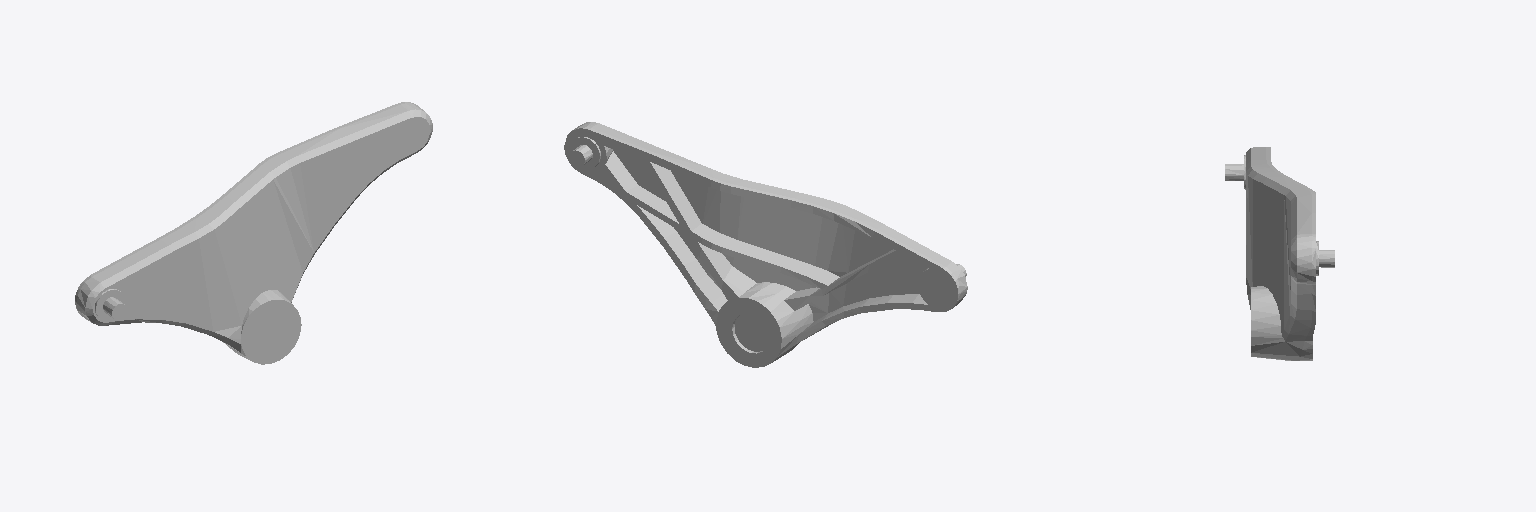
Rendered from irb760_450_318_link_cad_00_body1.obj.
The picture shows the model from 3 angles: view 1: azimuth 30°, elevation 25°; view 2: azimuth 150°, elevation 25°; view 3: azimuth 270°, elevation 25°; orthographic projection.
Parts seen in each view (by area): view 1: 0; view 2: 0; view 3: 0.
Part boxes in pixels (x1,y1,x2,y2): 0: (75, 102, 432, 364); 0: (564, 122, 967, 367); 0: (1225, 147, 1334, 360).
Size of the model in its own units: 945 by 489 by 240.